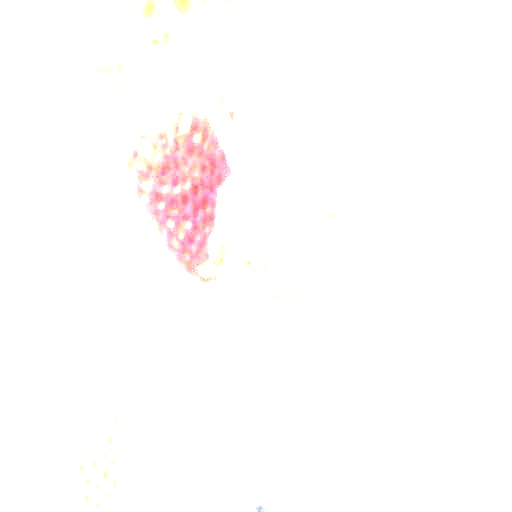Gray Mold: (197, 122, 353, 371)
